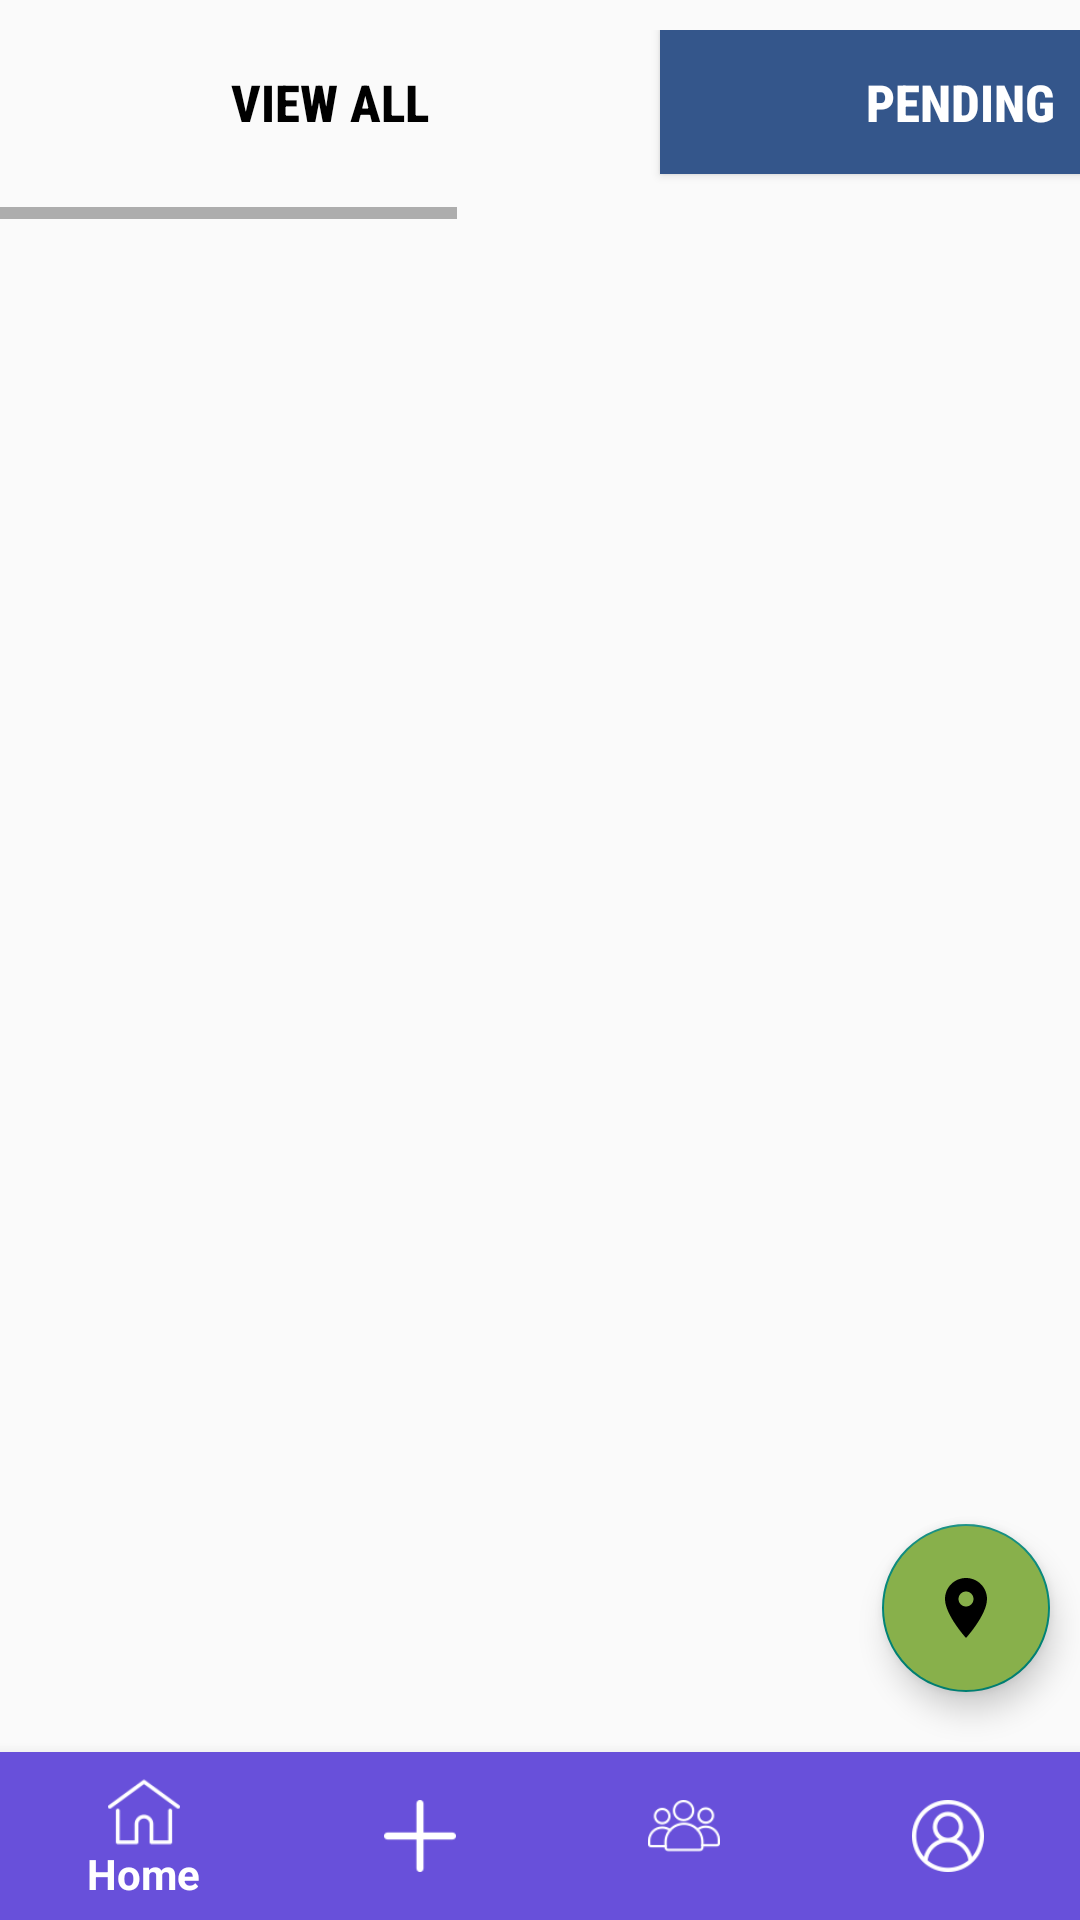

Where to tap for icons on this 1080×1920 app screen, as [x,y]:
location: [966,1608]
